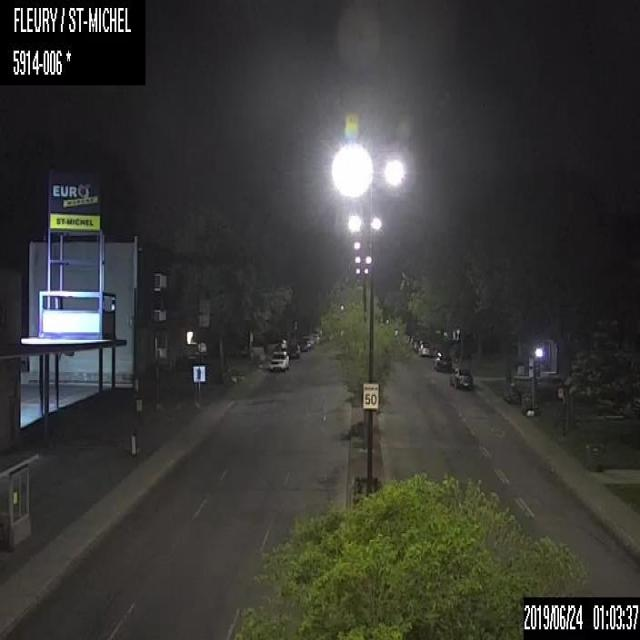vehicle: (266, 346, 290, 369), (448, 365, 472, 388), (431, 349, 451, 374), (415, 340, 429, 354), (297, 338, 310, 353), (287, 343, 299, 359)
